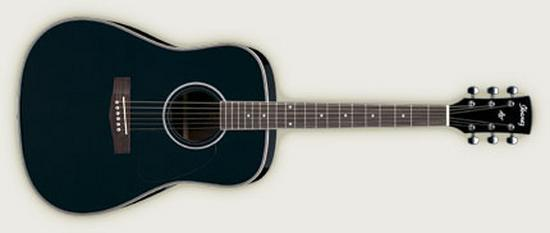guitar: (18, 19, 535, 212)
